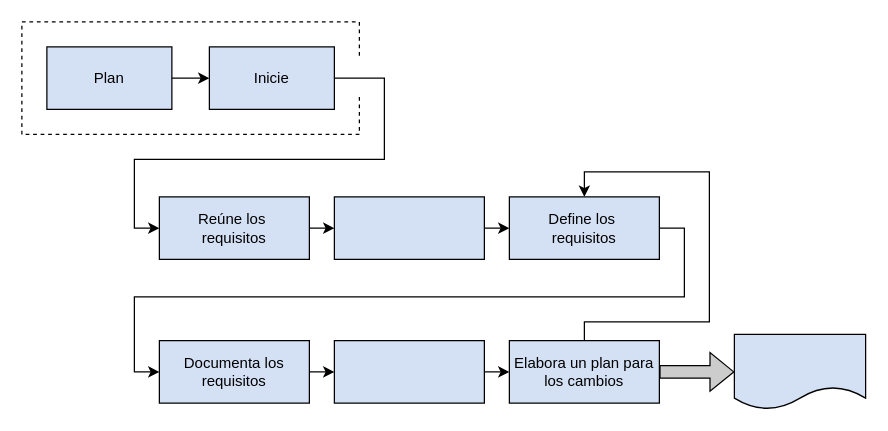
This 888x431 diagram has some shape labels left out. The shapes that lost their labels are listed below. From the top down, each one's centre as x and y in pixels, then its label:
the point at 408,227: Analiza los requisitos
the point at 408,371: Establece las prioridades de los requisitos
the point at 799,371: FIN
